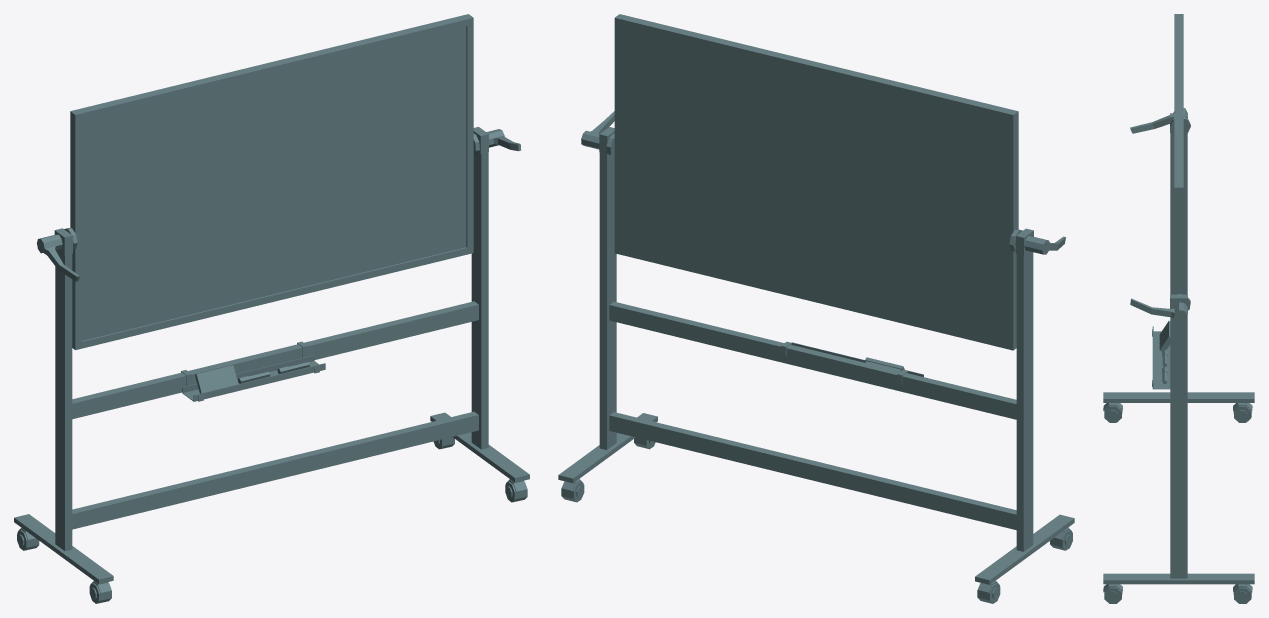
The model's file is Pizarra.fbx.
3 renders of one model, left to right at view 1: azimuth 30°, elevation 25°; view 2: azimuth 150°, elevation 25°; view 3: azimuth 270°, elevation 25°, orthographic. The views are drawn at different scales.
Parts seen in each view (by area): view 1: Pizarra; view 2: Pizarra; view 3: Pizarra.
Part boxes in pixels (x1,y1,x2,y2): Pizarra: (14,14,529,603); Pizarra: (558,14,1074,603); Pizarra: (1103,14,1254,603).
Bounding box in the file's own units: 96.85 × 92.19 × 30.86.
